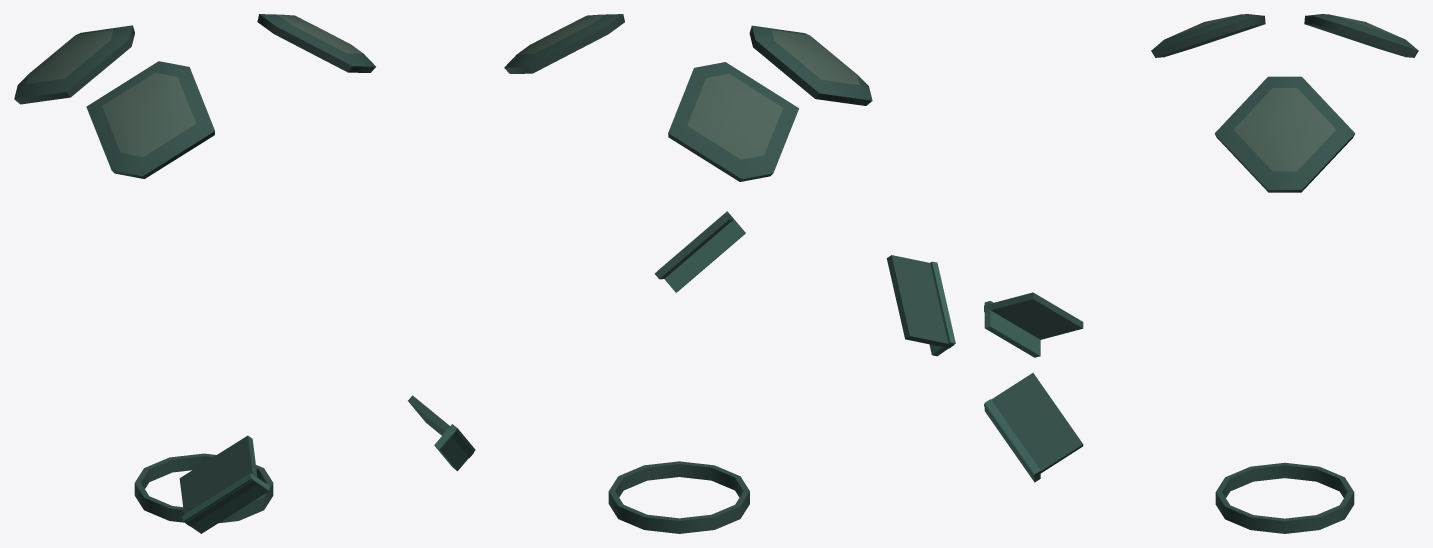
File: shell_cannon_c5.glb
The picture shows the model from 3 angles, left to right: view 1: azimuth 30°, elevation 25°; view 2: azimuth 150°, elevation 25°; view 3: azimuth 270°, elevation 25°; orthographic projection.
Visible parts, largest first — view 1: Carapace5, PortHoods; view 2: Carapace5, PortHoods; view 3: Carapace5, PortHoods.
Part boxes in pixels (x1=…): Carapace5: x1=14, y1=14, x2=375, y2=523; PortHoods: x1=179, y1=395, x2=475, y2=533; Carapace5: x1=504, y1=14, x2=872, y2=533; PortHoods: x1=654, y1=211, x2=955, y2=356; Carapace5: x1=1151, y1=14, x2=1418, y2=533; PortHoods: x1=984, y1=292, x2=1083, y2=482.
Bounding box in the file's own units: 1.27 × 1.8 × 1.55.
